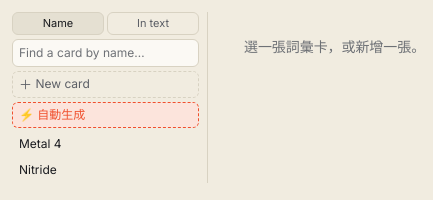
Test: ContextCardsTab (#106) › filters the list to an exact name match (Name mode)
Expected: the button "Metal 4" is shown, [12,132,199,157]
Type "m4" into the field named "Search cards". click: (106, 53)
box: [12,39,199,67]
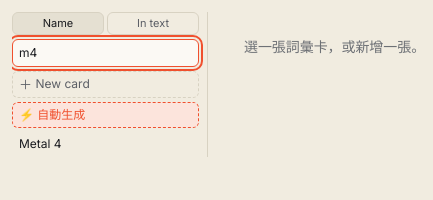
Expected: the button "Metal 4" is shown, [12,132,199,157]
Expected: the button "Nitride" is gone
